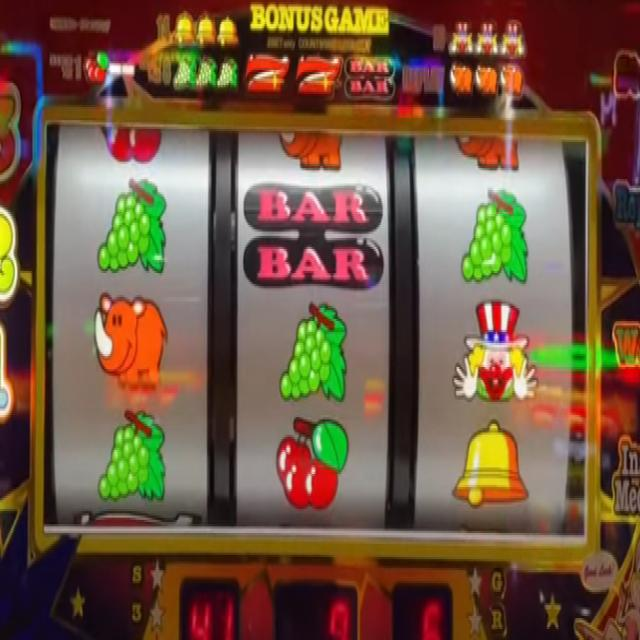bar: (242, 180, 385, 293), (346, 52, 396, 102)
bell: (450, 415, 529, 511), (172, 10, 194, 46), (196, 13, 216, 51), (217, 15, 238, 50)
cherry: (274, 413, 350, 513), (100, 124, 163, 164), (84, 48, 108, 88)
clown: (452, 296, 539, 404), (500, 20, 527, 59), (476, 21, 499, 60), (449, 21, 473, 58)
display: (45, 111, 588, 542)
elephant: (92, 292, 168, 395), (278, 129, 345, 174), (456, 135, 520, 174), (476, 60, 498, 101), (500, 64, 524, 100), (449, 62, 473, 96)
grape: (96, 175, 168, 283), (278, 297, 348, 406), (459, 183, 530, 288), (97, 405, 166, 505), (173, 56, 196, 90), (217, 56, 238, 92), (196, 58, 217, 90)
z: (296, 50, 342, 102), (245, 50, 289, 98)
